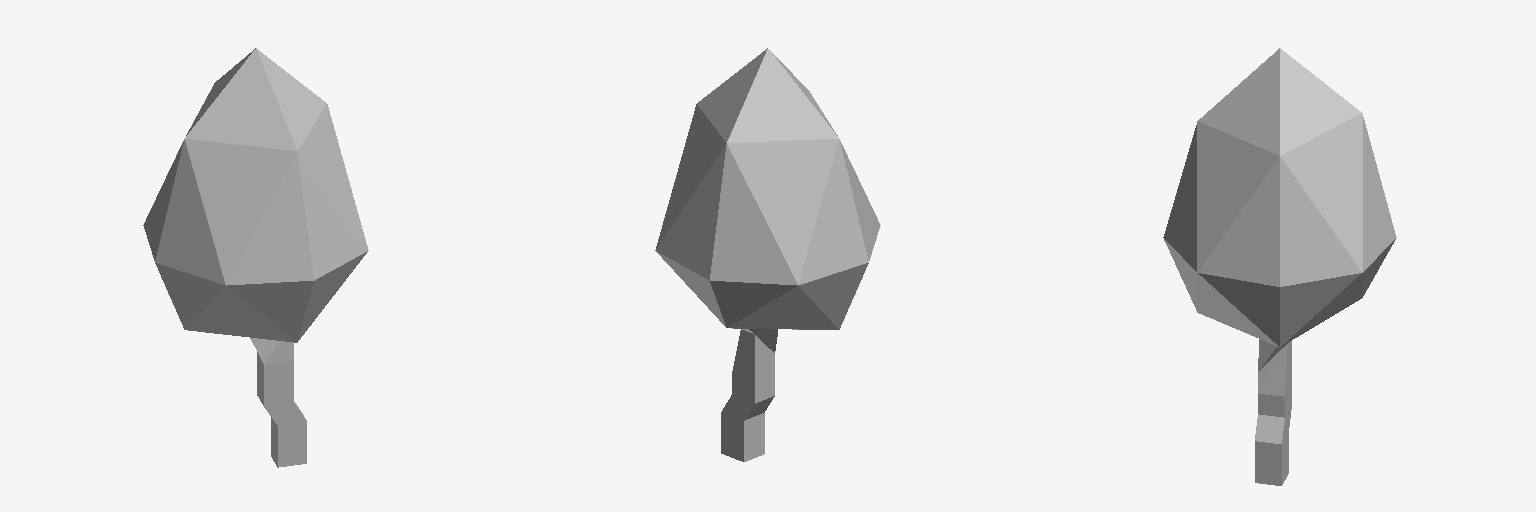
File: tree01.obj
3 views of the same model, side by side, from view 1: azimuth 30°, elevation 25°; view 2: azimuth 150°, elevation 25°; view 3: azimuth 270°, elevation 25° (orthographic).
Parts seen in each view (by area): view 1: Tree_01_Mesh; view 2: Tree_01_Mesh; view 3: Tree_01_Mesh.
Part boxes in pixels (left/top/right/bottom): Tree_01_Mesh: left=143, top=48, right=368, bottom=467; Tree_01_Mesh: left=655, top=48, right=880, bottom=461; Tree_01_Mesh: left=1163, top=48, right=1396, bottom=485.
Bounding box in the file's own units: 1.21 × 2.38 × 1.21.